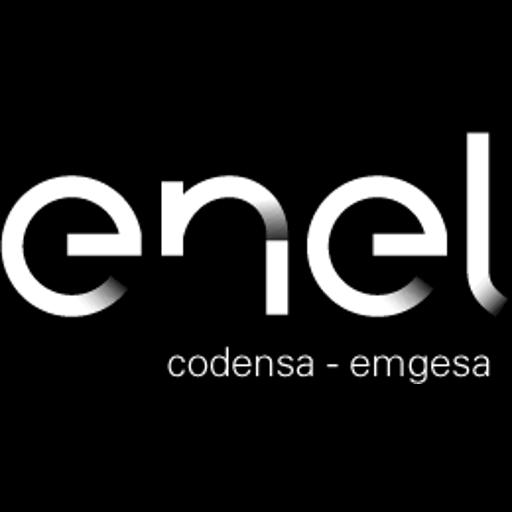Enel Energia S-p-A: (0, 128, 512, 384)
